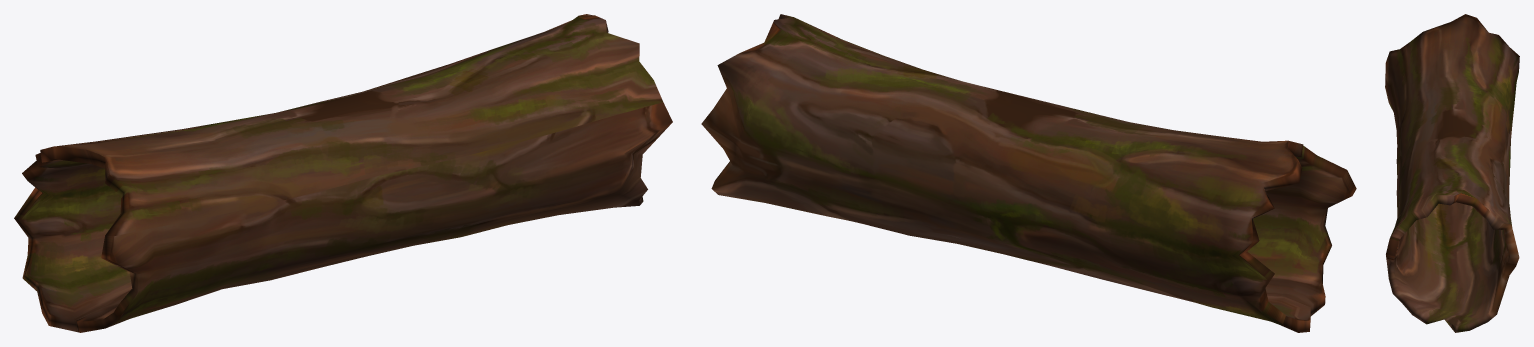
The model's file is 0930_Tong_namu 1.FBX.
3 renders of one model, left to right at view 1: azimuth 30°, elevation 25°; view 2: azimuth 150°, elevation 25°; view 3: azimuth 270°, elevation 25°, orthographic. The views are drawn at different scales.
Parts seen in each view (by area): view 1: Object006; view 2: Object006; view 3: Object006.
Part boxes in pixels (x1,y1,x2,y2): Object006: (14,14,672,332); Object006: (701,14,1356,332); Object006: (1385,14,1519,332).
Size of the model in its own units: 106 by 30.7 by 30.27.
1 material, 1 textured.
